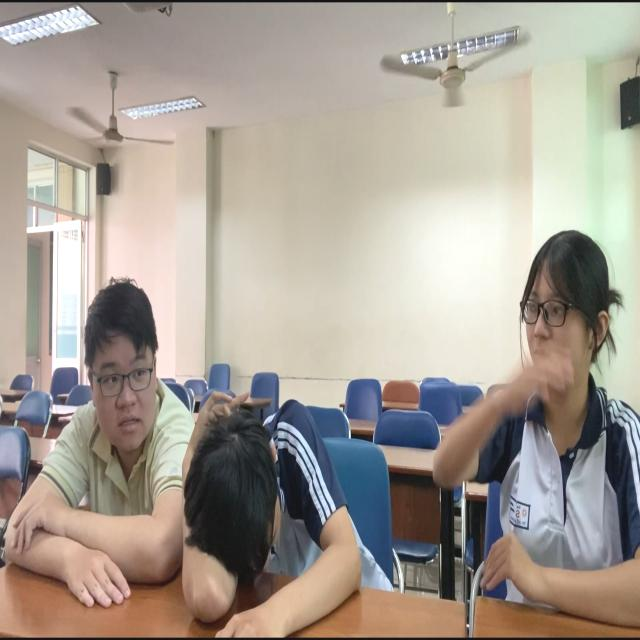sleep: (174, 395, 386, 640)
